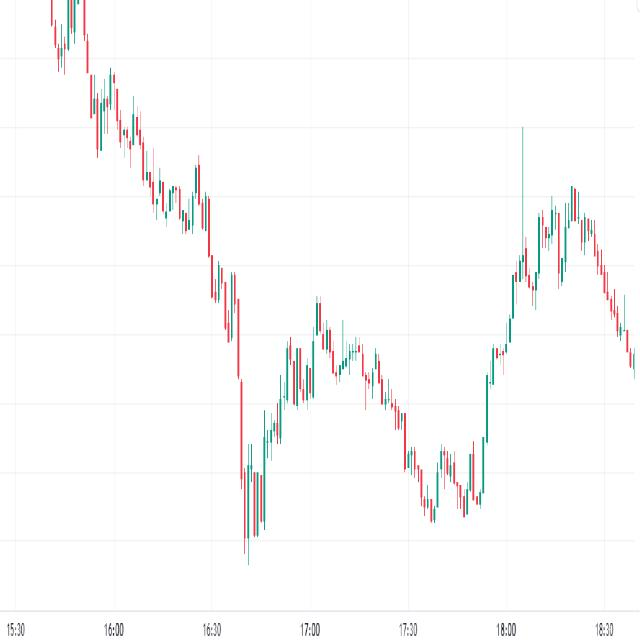Rounding-Top: (255, 284, 435, 537)
